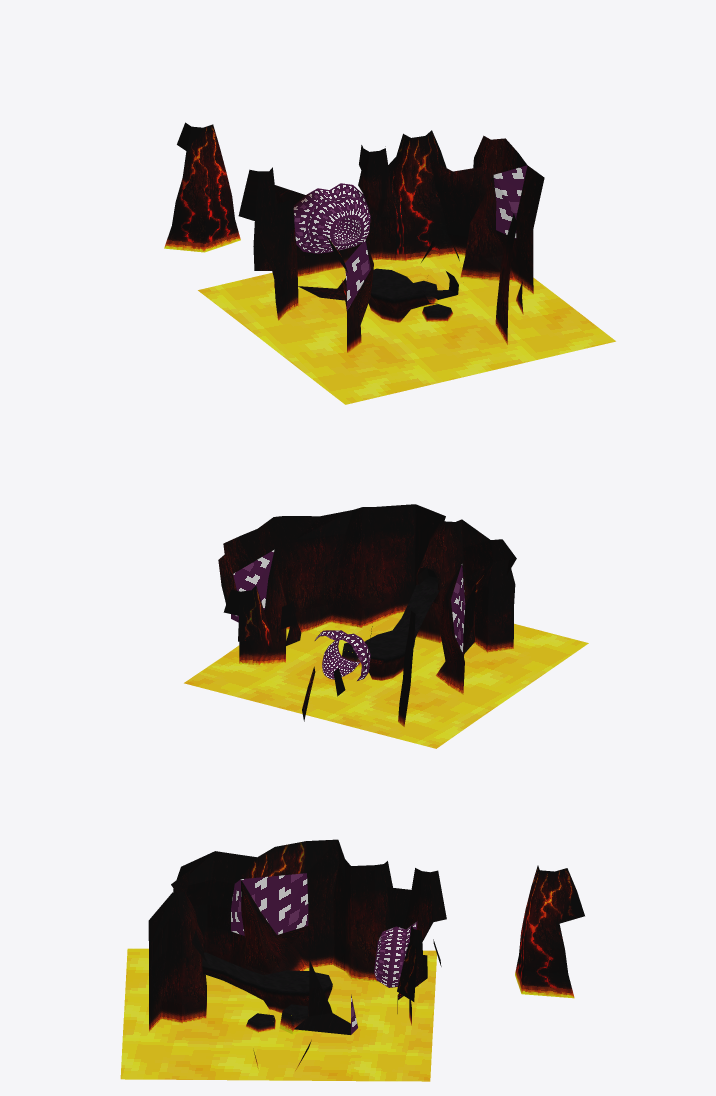
File: AlienEntrance.glb
3 renders of one model, top to bottom at view 1: azimuth 30°, elevation 25°; view 2: azimuth 150°, elevation 25°; view 3: azimuth 270°, elevation 25°, orthographic. The views are drawn at different scales.
Visible parts, largest first — view 1: AlienEntrance_18, AlienEntrance_3, AlienEntrance_2, AlienEntrance_5, AlienEntrance_6, AlienEntrance_4, AlienEntrance_Alpha_14, AlienEntrance_20, AlienEntrance_Alpha_17, AlienEntrance_11, AlienEntrance_Alpha_12, AlienEntrance_9 (+6 smaller); view 2: AlienEntrance_18, AlienEntrance_3, AlienEntrance_5, AlienEntrance_4, AlienEntrance_6, AlienEntrance_2, AlienEntrance_20, AlienEntrance_7, AlienEntrance_9; view 3: AlienEntrance_18, AlienEntrance_3, AlienEntrance_4, AlienEntrance_5, AlienEntrance_2, AlienEntrance_6, AlienEntrance_7, AlienEntrance_20, AlienEntrance_Alpha_10, AlienEntrance_Alpha_14, AlienEntrance_22, AlienEntrance_Alpha_17 (+4 smaller).
Boxes of the visible parts, x1,y1,x2,y2 form: AlienEntrance_18: [198, 254, 615, 404]; AlienEntrance_3: [244, 135, 544, 273]; AlienEntrance_2: [293, 165, 527, 310]; AlienEntrance_5: [274, 209, 533, 334]; AlienEntrance_6: [274, 233, 533, 353]; AlienEntrance_4: [253, 186, 533, 301]; AlienEntrance_Alpha_14: [164, 219, 240, 252]; AlienEntrance_20: [371, 268, 457, 314]; AlienEntrance_Alpha_17: [172, 196, 234, 228]; AlienEntrance_11: [342, 183, 442, 310]; AlienEntrance_Alpha_12: [175, 173, 231, 204]; AlienEntrance_9: [390, 151, 446, 190]; AlienEntrance_18: [184, 612, 588, 748]; AlienEntrance_3: [218, 504, 516, 672]; AlienEntrance_5: [239, 554, 513, 707]; AlienEntrance_4: [264, 544, 515, 683]; AlienEntrance_6: [239, 592, 513, 726]; AlienEntrance_2: [231, 549, 465, 680]; AlienEntrance_20: [343, 576, 439, 658]; AlienEntrance_7: [223, 570, 486, 615]; AlienEntrance_9: [238, 588, 474, 641]; AlienEntrance_18: [120, 948, 436, 1081]; AlienEntrance_3: [148, 839, 446, 994]; AlienEntrance_4: [149, 895, 432, 1034]; AlienEntrance_5: [149, 920, 411, 1012]; AlienEntrance_2: [231, 873, 417, 1034]; AlienEntrance_6: [149, 944, 418, 1070]; AlienEntrance_7: [234, 841, 441, 973]; AlienEntrance_20: [202, 952, 332, 1024]; AlienEntrance_Alpha_10: [525, 886, 584, 923]; AlienEntrance_Alpha_14: [515, 955, 574, 998]; AlienEntrance_22: [202, 966, 332, 1004]; AlienEntrance_Alpha_17: [519, 932, 568, 973].
Bounding box in the file's own units: 375 × 115 × 581.
24 materials, 24 textured.
